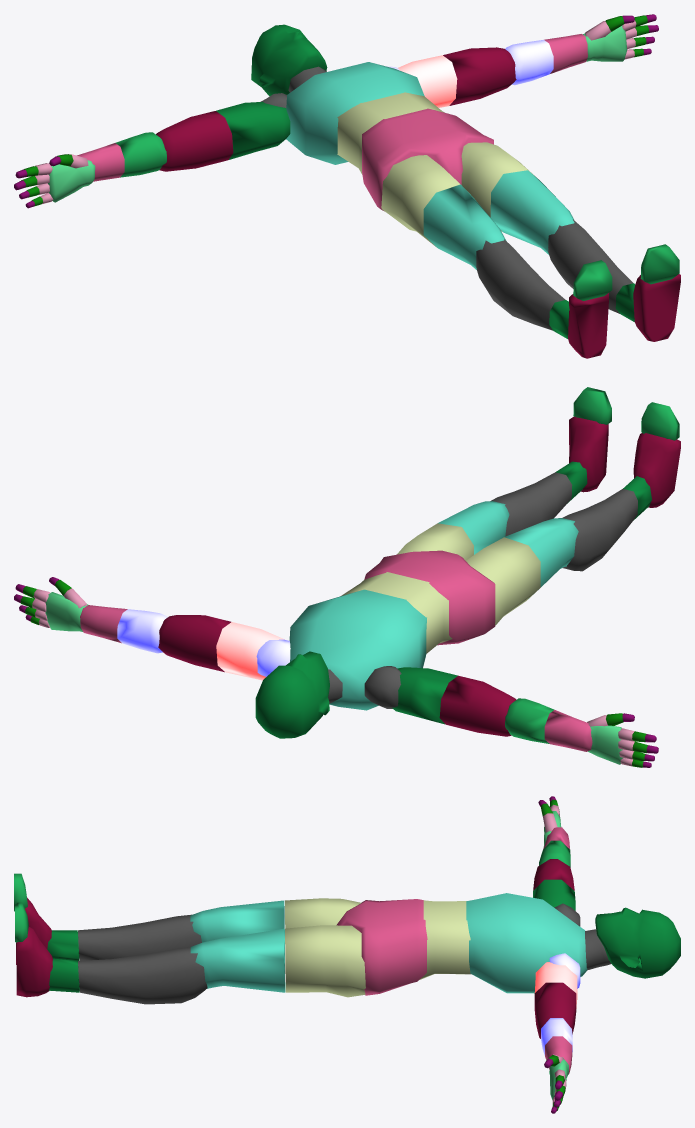
The model's file is actor_wim_meters_3dsexport.dae.
The picture shows the model from 3 angles, top to bottom: view 1: azimuth 30°, elevation 25°; view 2: azimuth 150°, elevation 25°; view 3: azimuth 270°, elevation 25°; orthographic projection. The views are drawn at different scales.
Parts seen in each view (by area): view 1: nodeChest, nodeHips, nodeRightKnee, nodeLeftUpLegRoll, nodeRightUpLegRoll, nodeRightHip, nodeHead, nodeRightArmRoll, nodeLeftArmRoll, nodeWaist, nodeRightShoulder, nodeLeftKnee (+14 smaller); view 2: nodeChest, nodeHips, nodeHead, nodeRightHip, nodeRightKnee, nodeRightArmRoll, nodeWaist, nodeLeftArmRoll, nodeLeftKnee, nodeRightAnkle, nodeRightUpLegRoll, nodeRightShoulder (+16 smaller); view 3: nodeChest, nodeHips, nodeLeftKnee, nodeLeftHip, nodeHead, nodeLeftUpLegRoll, nodeRightKnee, nodeWaist, nodeRightUpLegRoll, nodeLeftAnkle, nodeRightHip, nodeLeftArmRoll (+10 smaller).
Boxes of the visible parts, bbox=[...] form: nodeChest: bbox=[286, 62, 424, 164]; nodeHips: bbox=[362, 108, 493, 211]; nodeRightKnee: bbox=[476, 239, 565, 330]; nodeLeftUpLegRoll: bbox=[490, 170, 574, 254]; nodeRightUpLegRoll: bbox=[423, 184, 506, 269]; nodeRightHip: bbox=[381, 155, 460, 246]; nodeHead: bbox=[251, 24, 327, 96]; nodeRightArmRoll: bbox=[156, 111, 233, 171]; nodeLeftArmRoll: bbox=[443, 47, 516, 105]; nodeWaist: bbox=[337, 92, 444, 174]; nodeRightShoulder: bbox=[216, 101, 290, 159]; nodeLeftKnee: bbox=[548, 219, 633, 313]; nodeChest: bbox=[289, 589, 426, 710]; nodeHips: bbox=[364, 550, 495, 645]; nodeHead: bbox=[255, 651, 329, 738]; nodeRightHip: bbox=[466, 537, 540, 625]; nodeRightKnee: bbox=[562, 489, 637, 571]; nodeRightArmRoll: bbox=[439, 675, 516, 736]; nodeWaist: bbox=[341, 572, 452, 653]; nodeLeftArmRoll: bbox=[158, 615, 230, 672]; nodeLeftKnee: bbox=[490, 472, 572, 536]; nodeRightAnkle: bbox=[633, 433, 680, 507]; nodeRightUpLegRoll: bbox=[504, 518, 578, 598]; nodeRightShoulder: bbox=[392, 667, 457, 724]; nodeChest: bbox=[466, 893, 587, 993]; nodeHips: bbox=[336, 899, 427, 995]; nodeLeftKnee: bbox=[78, 947, 207, 1004]; nodeLeftHip: bbox=[285, 925, 365, 997]; nodeHead: bbox=[595, 907, 680, 978]; nodeLeftUpLegRoll: bbox=[190, 928, 285, 992]; nodeRightKnee: bbox=[78, 914, 201, 960]; nodeWaist: bbox=[419, 900, 471, 979]; nodeRightUpLegRoll: bbox=[190, 900, 284, 951]; nodeLeftAnkle: bbox=[16, 927, 52, 997]; nodeRightHip: bbox=[285, 898, 361, 928]; nodeLeftArmRoll: bbox=[534, 982, 576, 1038].
Size of the model in its own units: 1.83 by 1.78 by 0.2712.
